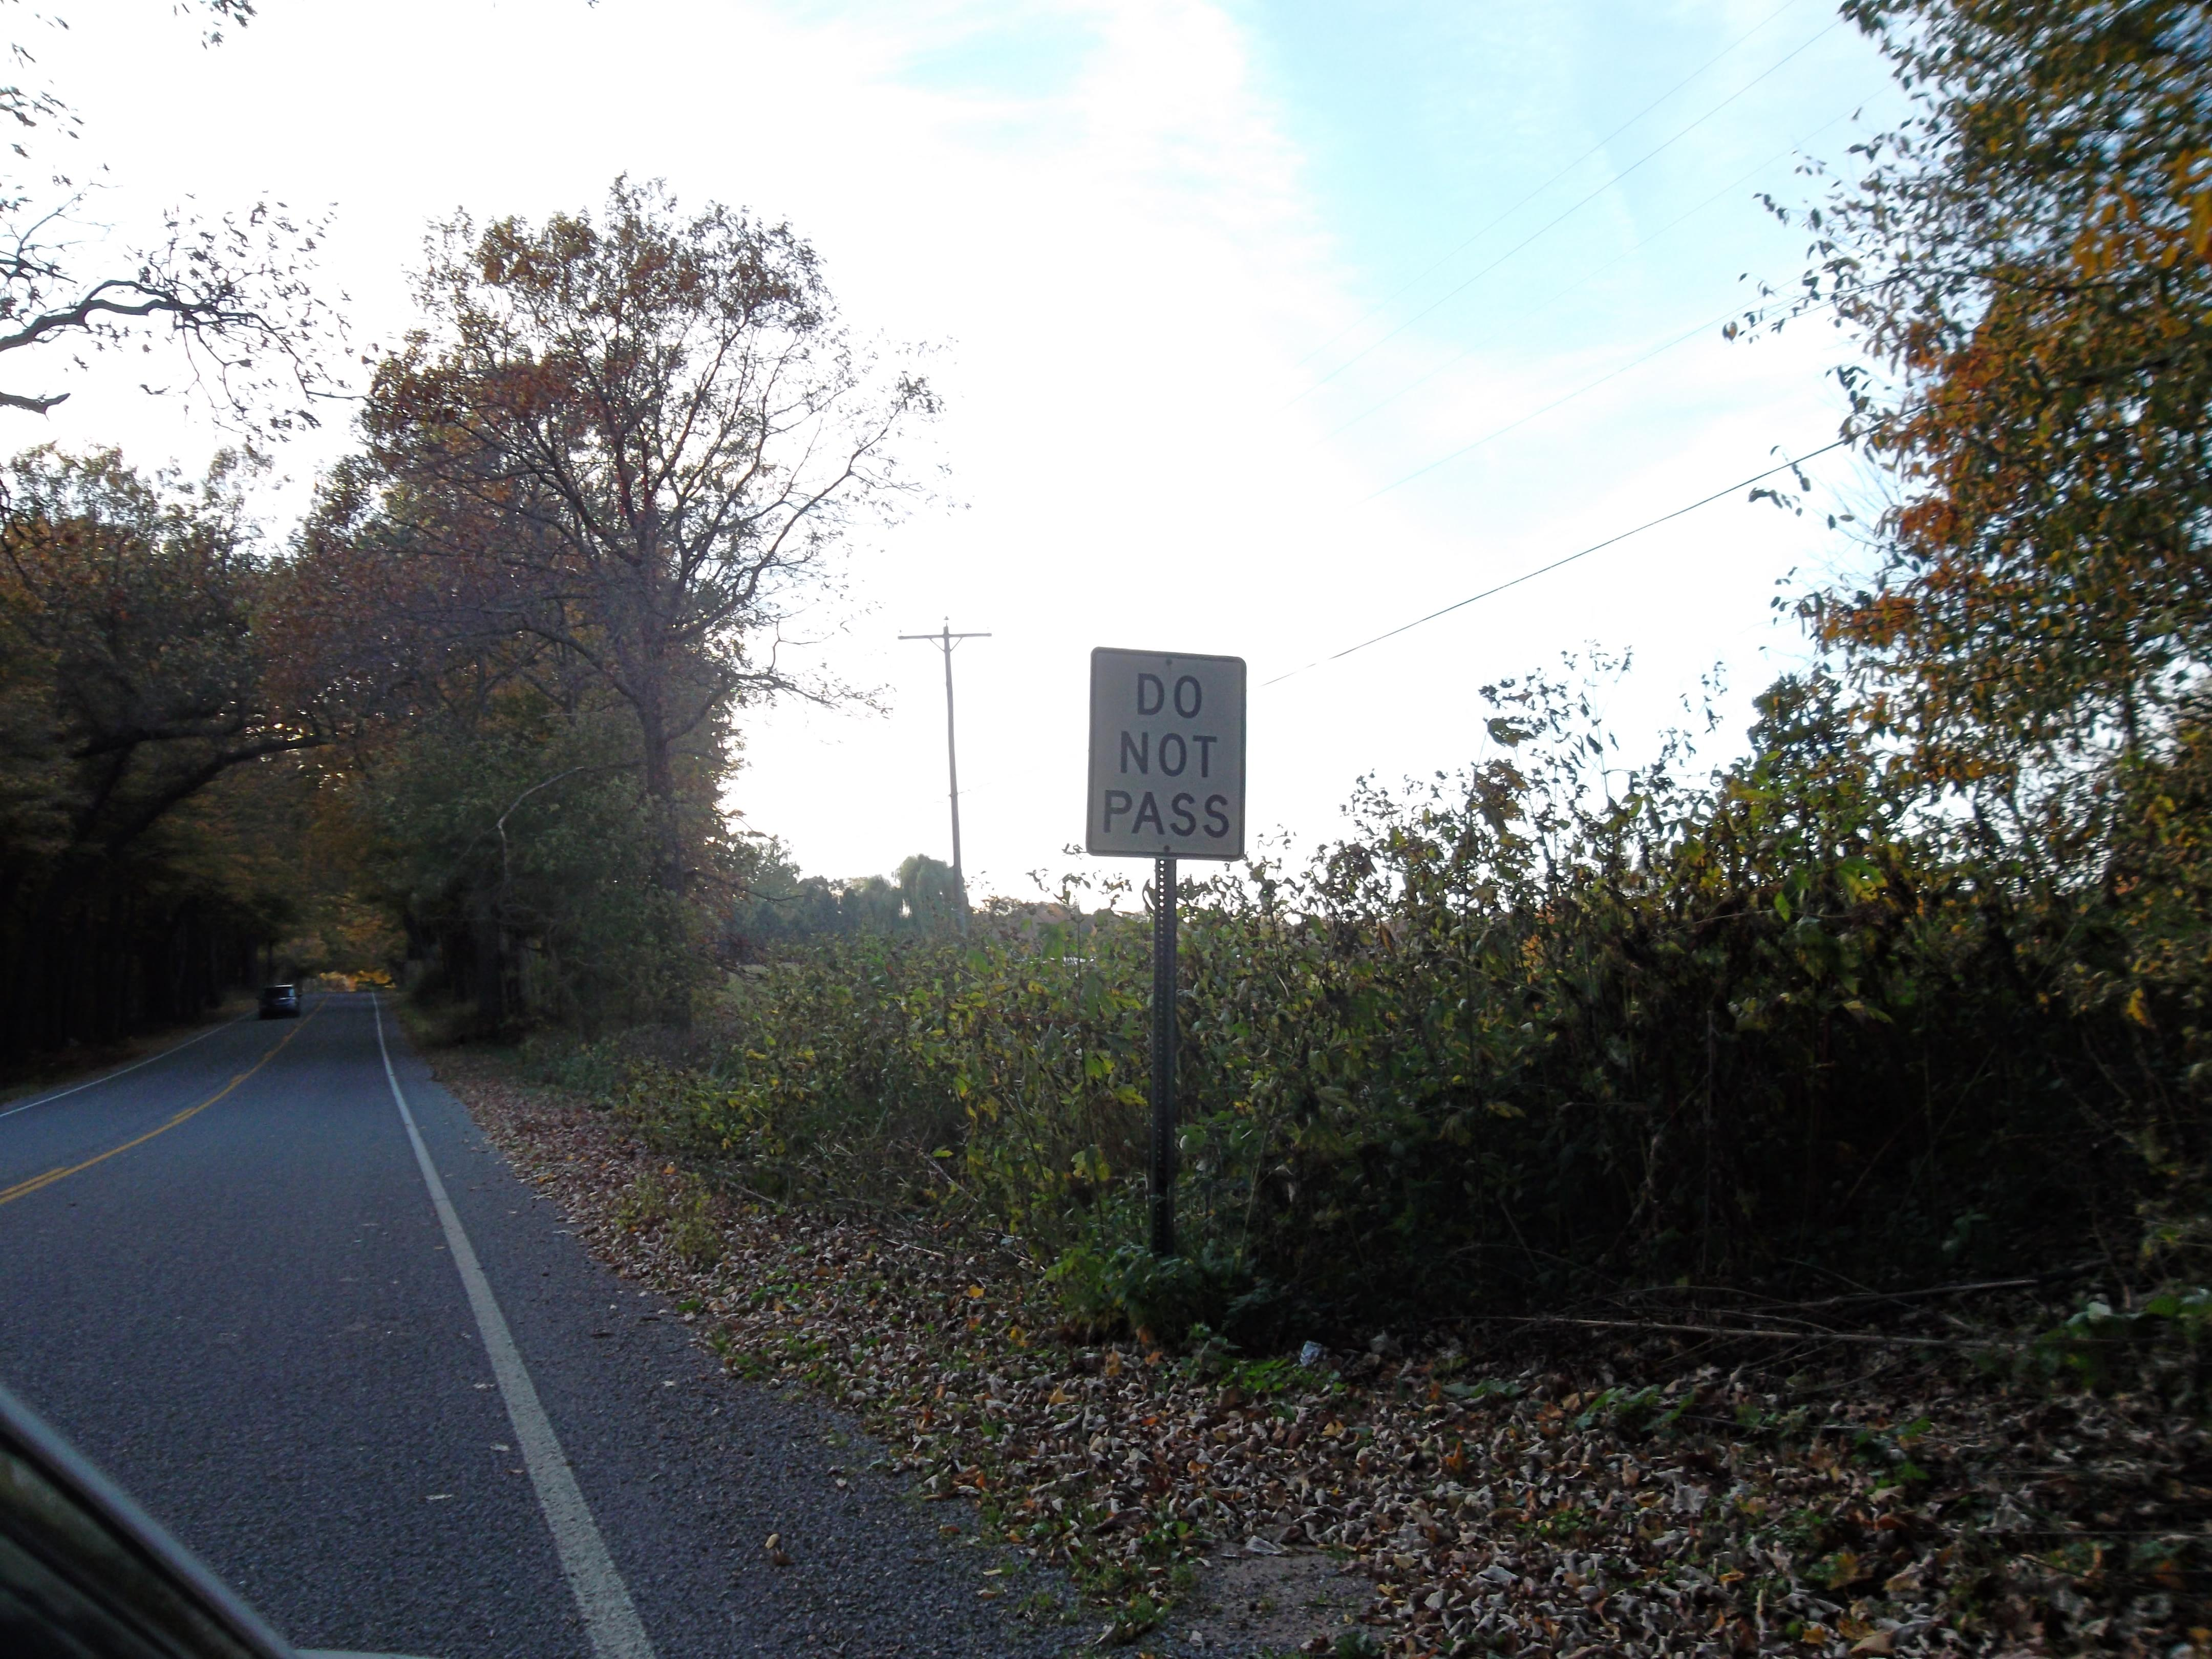regulatory: (1076, 636, 1266, 882)
